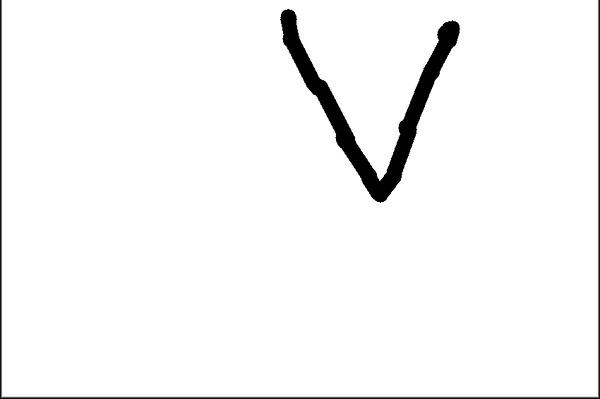V: (273, 7, 466, 202)
